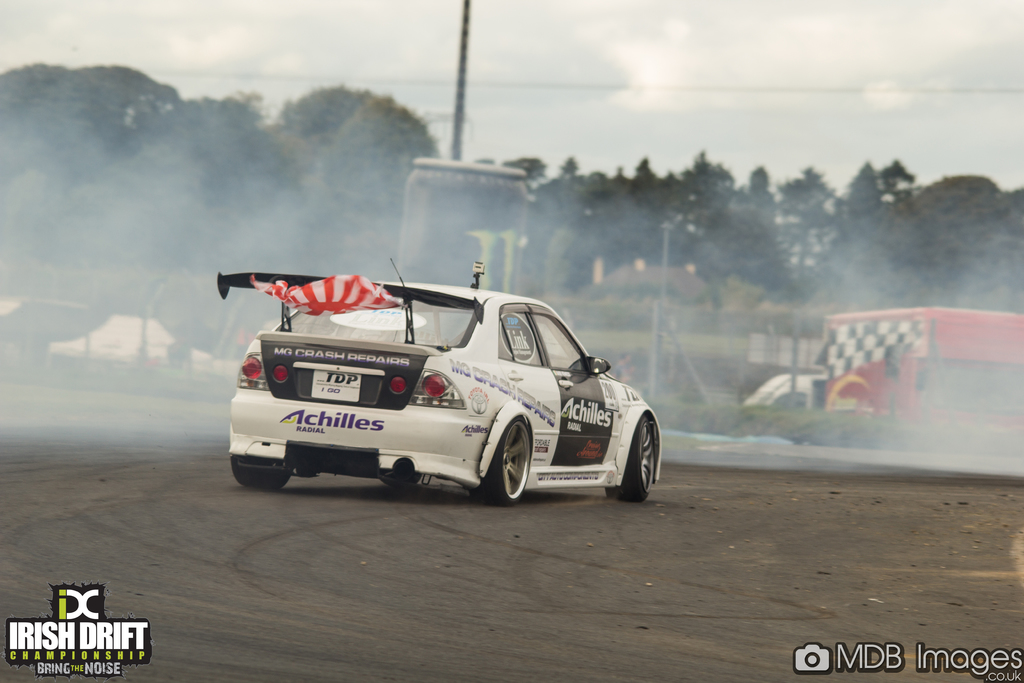Car: (218, 251, 673, 494)
